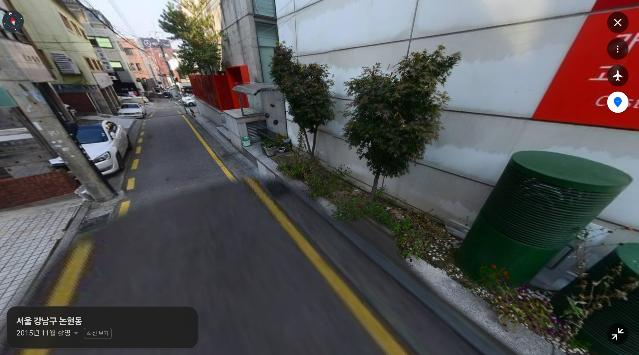other: (341, 44, 462, 206), (267, 40, 338, 164), (157, 0, 224, 76)
